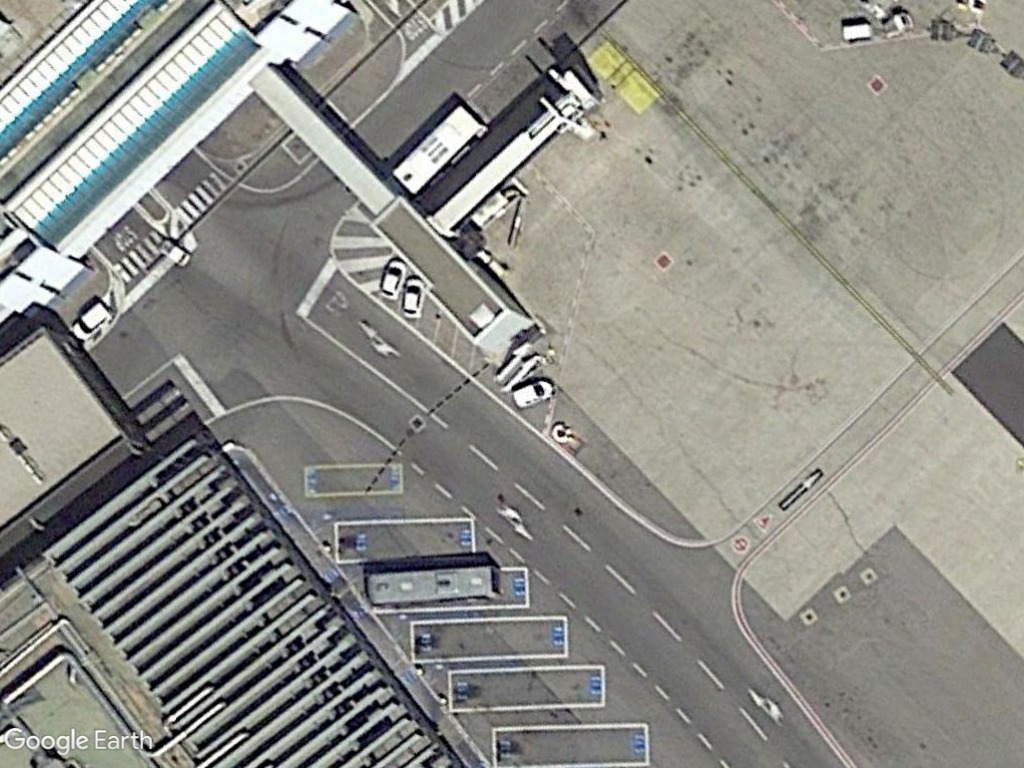bus: (387, 99, 490, 198), (360, 562, 505, 609)
car: (376, 253, 407, 304), (397, 274, 427, 321), (154, 239, 192, 271)
stairtruck: (485, 343, 550, 392)
van: (68, 299, 115, 344), (504, 381, 557, 411)
